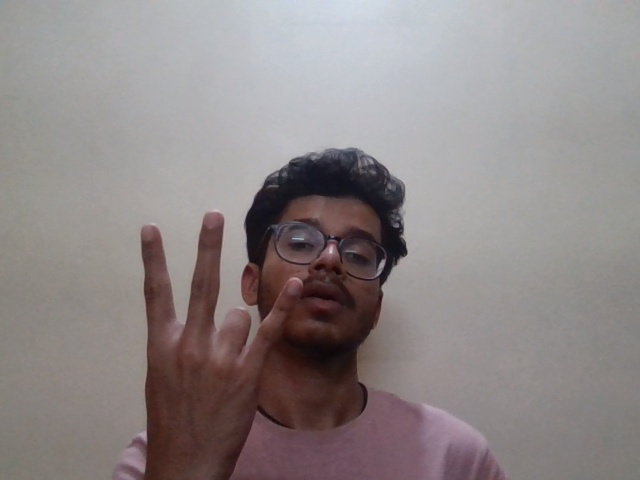why: (139, 200, 303, 438)
